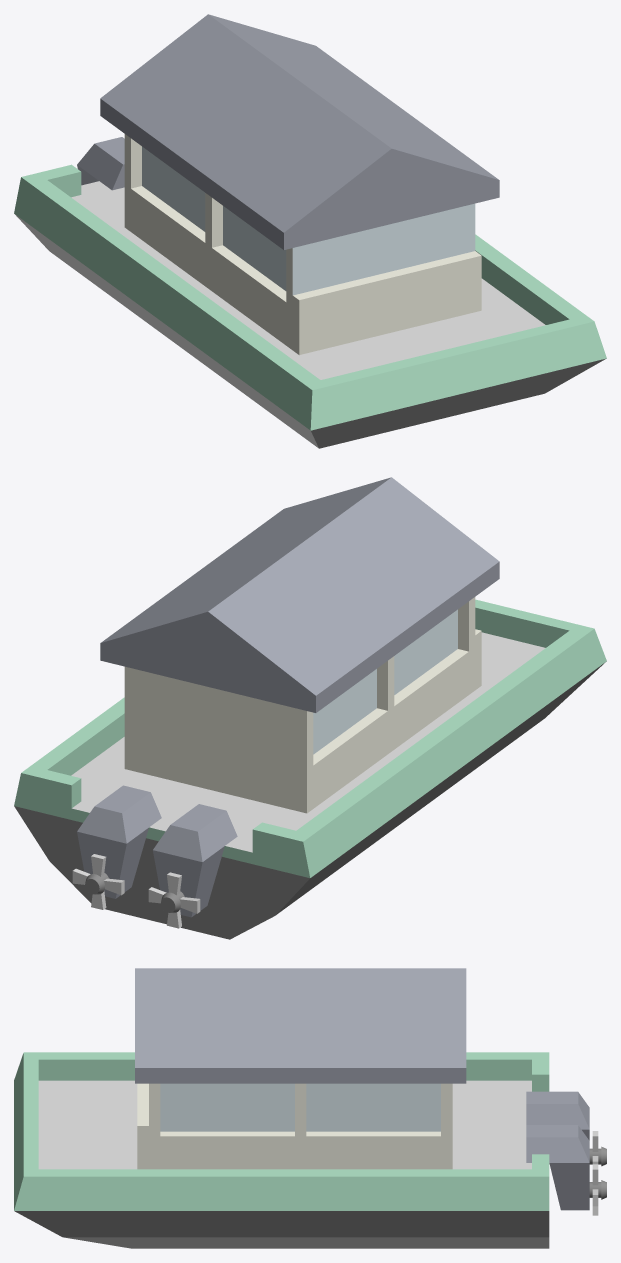
The model's file is watercraftPack_002.glb.
3 renders of one model, top to bottom at view 1: azimuth 30°, elevation 25°; view 2: azimuth 150°, elevation 25°; view 3: azimuth 270°, elevation 25°, orthographic. The views are drawn at different scales.
Parts seen in each view (by area): view 1: Mesh5 Group1 Model, Mesh4 Group5 Group1 Model; view 2: Mesh5 Group1 Model, Mesh4 Group5 Group1 Model, Mesh2 Group3 Group1 Model, Mesh1 Group2 Group1 Model, Mesh3 Group4 Group1 Model; view 3: Mesh5 Group1 Model, Mesh2 Group3 Group1 Model, Mesh4 Group5 Group1 Model.
Part boxes in pixels (left/top/right/bottom): Mesh5 Group1 Model: left=14, top=14, right=606, bottom=448; Mesh4 Group5 Group1 Model: left=77, top=137, right=124, bottom=190; Mesh5 Group1 Model: left=14, top=477, right=606, bottom=939; Mesh4 Group5 Group1 Model: left=153, top=804, right=237, bottom=917; Mesh2 Group3 Group1 Model: left=77, top=785, right=161, bottom=898; Mesh1 Group2 Group1 Model: left=148, top=872, right=200, bottom=928; Mesh3 Group4 Group1 Model: left=72, top=854, right=124, bottom=909; Mesh5 Group1 Model: left=14, top=968, right=549, bottom=1248; Mesh2 Group3 Group1 Model: left=526, top=1125, right=606, bottom=1210; Mesh4 Group5 Group1 Model: left=526, top=1091, right=606, bottom=1166.
Bounding box in the file's own units: 2.68 × 2.4 × 5.14.
